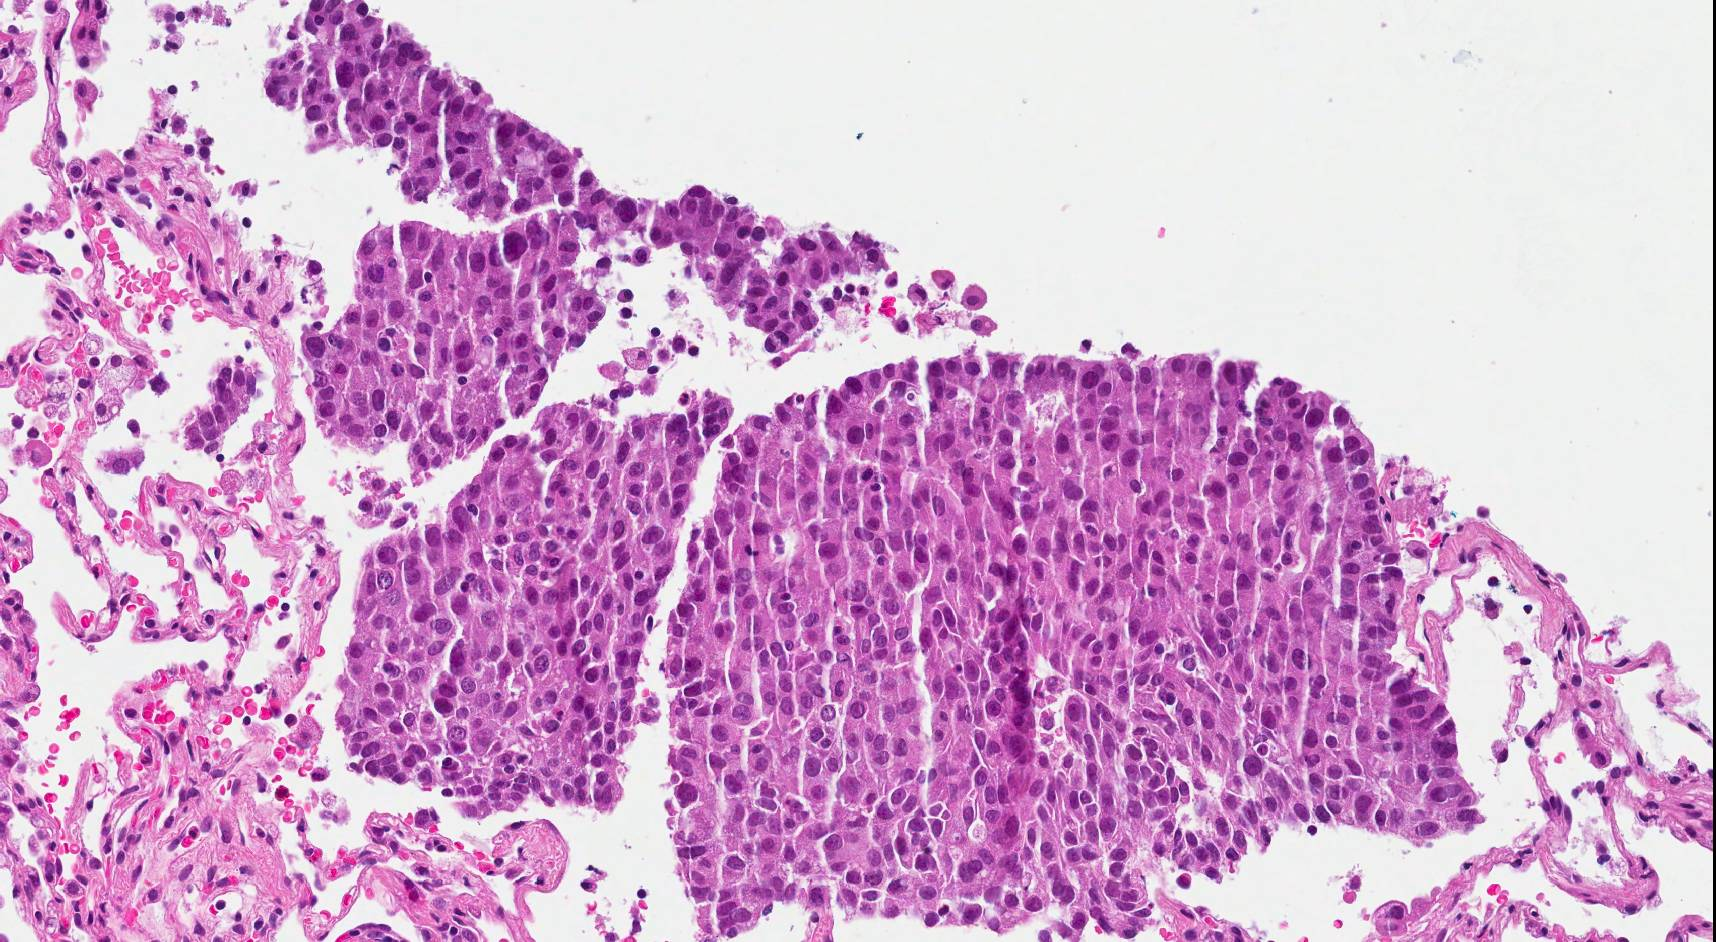stas: (666, 352, 1484, 935), (262, 3, 889, 476), (336, 394, 730, 822), (178, 357, 261, 450), (96, 445, 151, 476)
